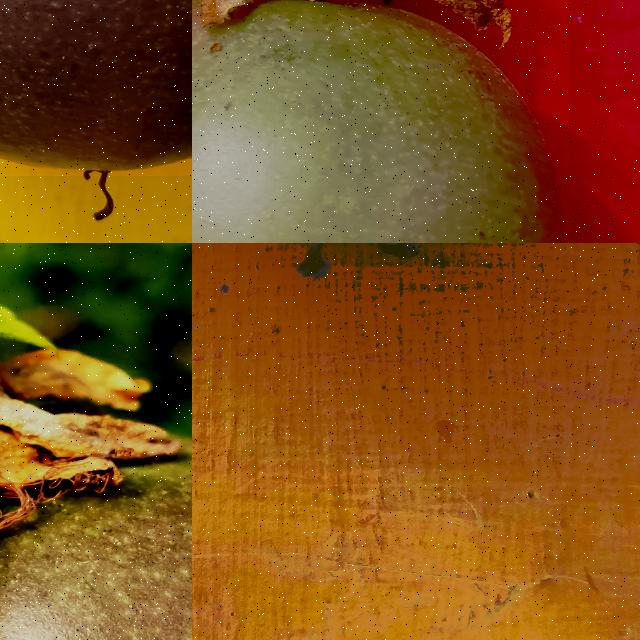Estado-2: (192, 0, 568, 243)
Estado-3: (0, 383, 192, 640)
